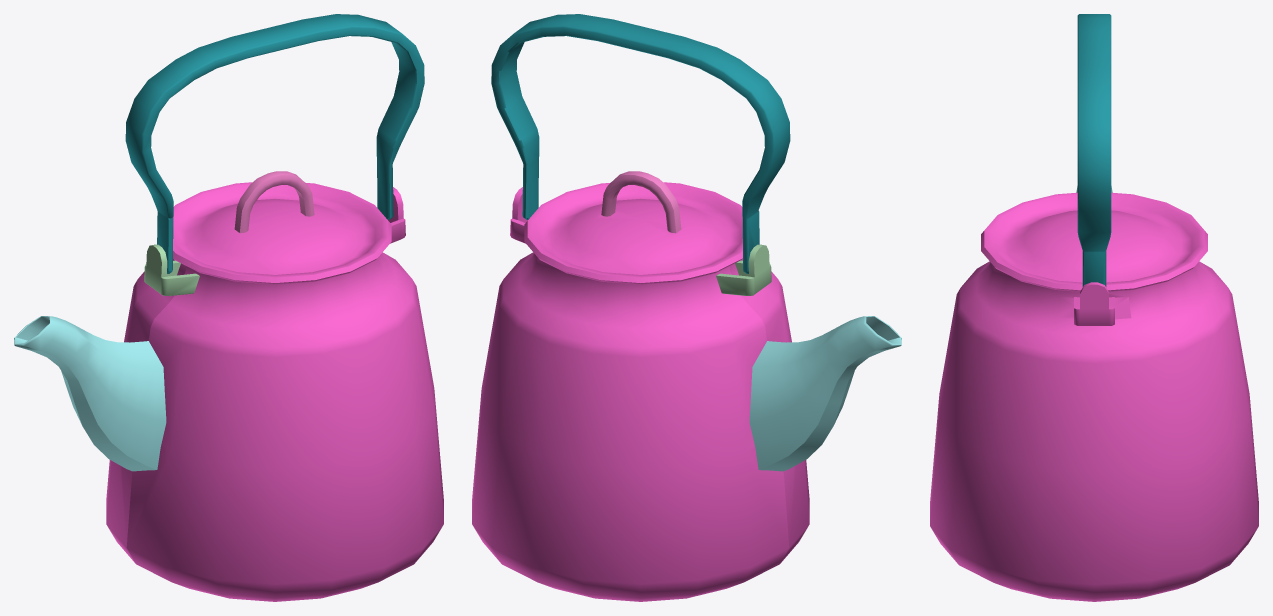
3 views of the same model, side by side, from view 1: azimuth 30°, elevation 25°; view 2: azimuth 150°, elevation 25°; view 3: azimuth 270°, elevation 25° (orthographic). The views are drawn at different scales.
Parts seen in each view (by area): view 1: split_parent_0, split_parent_2, split_parent_1, small__0, crep__0.014; view 2: split_parent_0, split_parent_2, split_parent_1, small__0, crep__0.014; view 3: split_parent_0, split_parent_2.
Part boxes in pixels (<box>): split_parent_0: <box>106,182,443,601</box>; split_parent_2: <box>125,14,424,273</box>; split_parent_1: <box>14,316,166,471</box>; small__0: <box>234,171,314,233</box>; crep__0.014: <box>144,244,199,295</box>; split_parent_0: <box>472,182,809,601</box>; split_parent_2: <box>491,14,790,273</box>; split_parent_1: <box>749,316,901,471</box>; small__0: <box>601,171,681,233</box>; crep__0.014: <box>716,244,771,295</box>; split_parent_0: <box>930,192,1258,601</box>; split_parent_2: <box>1077,14,1111,286</box>.
Size of the model in its own units: 0.822 by 1 by 0.5872.
